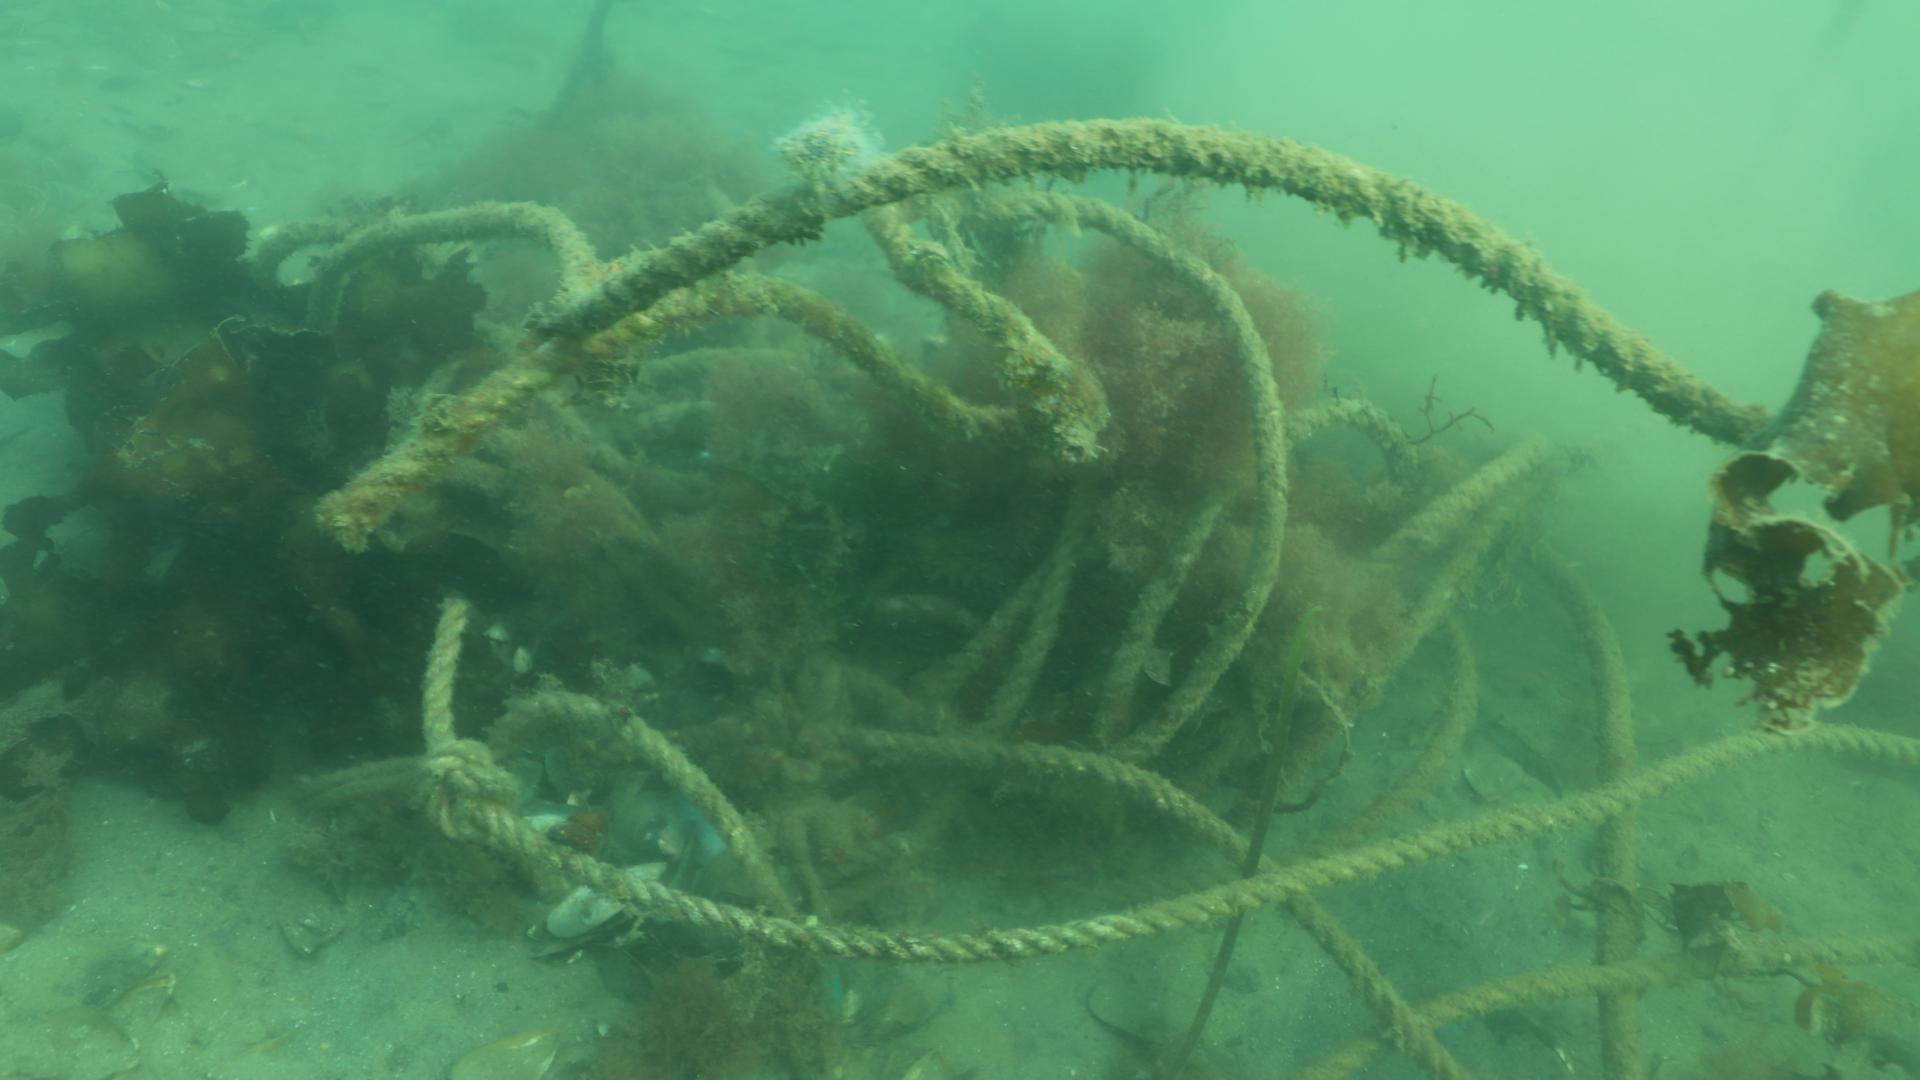bundle of ropes: (316, 109, 1920, 1080)
